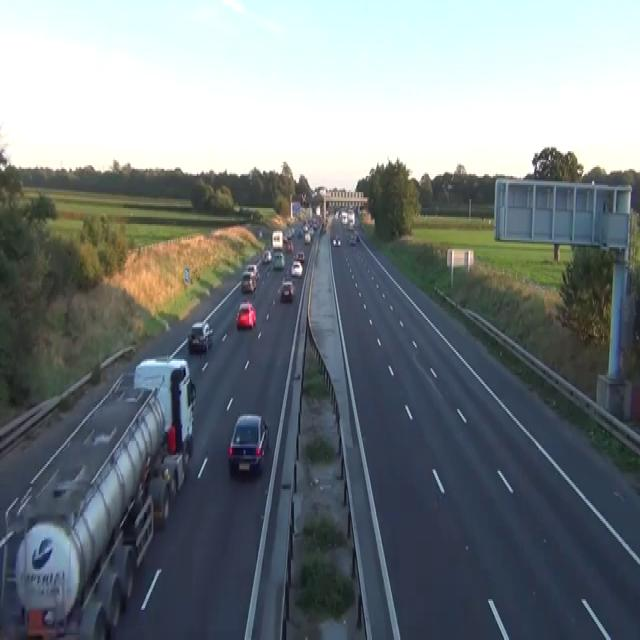Car: (227, 412, 269, 473), (187, 320, 213, 352), (113, 372, 139, 402), (236, 300, 256, 329), (279, 278, 294, 300), (241, 270, 256, 292), (272, 250, 285, 268), (246, 263, 259, 281), (290, 260, 302, 278), (282, 238, 293, 252), (349, 230, 360, 243), (261, 249, 271, 263), (348, 233, 356, 245), (296, 251, 304, 263), (304, 231, 311, 244), (332, 235, 341, 245), (286, 228, 294, 238), (296, 228, 303, 238), (354, 231, 360, 242), (321, 222, 326, 233), (258, 228, 262, 238)
Truck: (1, 356, 196, 638), (271, 229, 283, 251)
